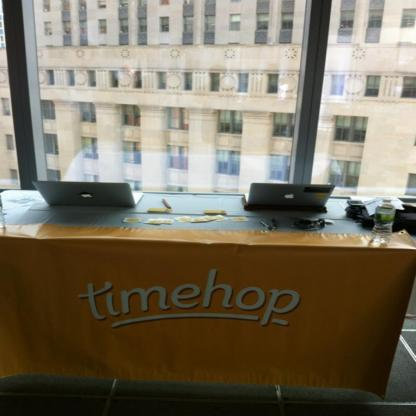board: (29, 181, 145, 209), (241, 181, 335, 215), (370, 198, 395, 243)
